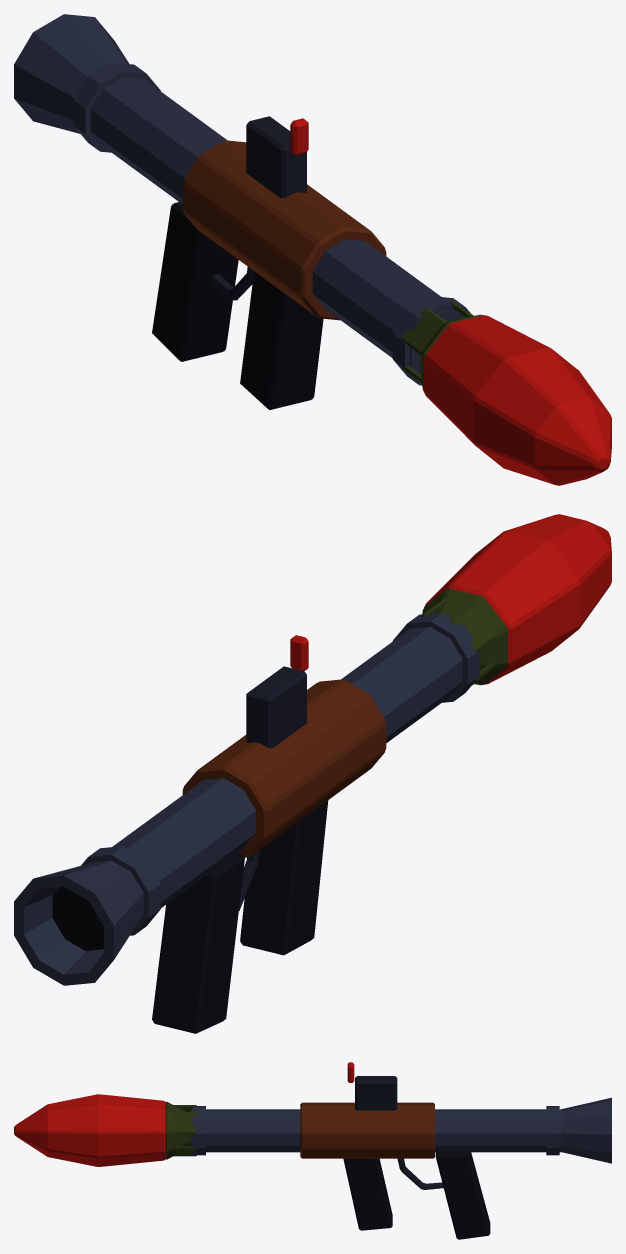
File: myw_rocketlauncher.obj
3 renders of one model, top to bottom at view 1: azimuth 30°, elevation 25°; view 2: azimuth 150°, elevation 25°; view 3: azimuth 270°, elevation 25°, orthographic. The views are drawn at different scales.
Visible parts, largest first — view 1: Tube, Rocket, Grips, Guard; view 2: Tube, Grips, Rocket, Guard; view 3: Tube, Rocket, Grips, Guard.
Boxes of the visible parts, x1,y1,x2,y2 form: Tube: (14,14,469,385); Rocket: (402,301,611,485); Grips: (152,116,323,409); Guard: (182,140,386,320); Tube: (14,612,479,985); Grips: (152,635,328,1033); Rocket: (421,514,611,685); Guard: (182,679,386,857); Tube: (191,1097,611,1163); Rocket: (14,1094,197,1166); Grips: (343,1062,490,1239); Guard: (300,1102,434,1158).
Bounding box in the file's own units: 0.4065 × 1.12 × 3.55.
